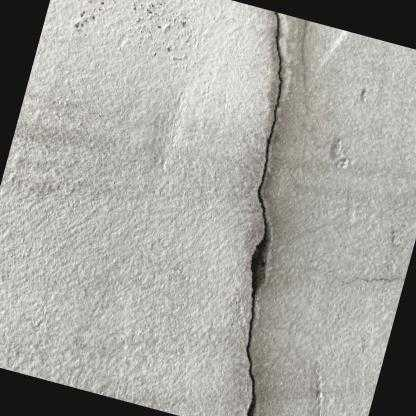crack: (244, 10, 282, 416)
